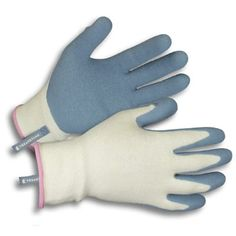gloves: (8, 15, 189, 150), (21, 97, 235, 209)
